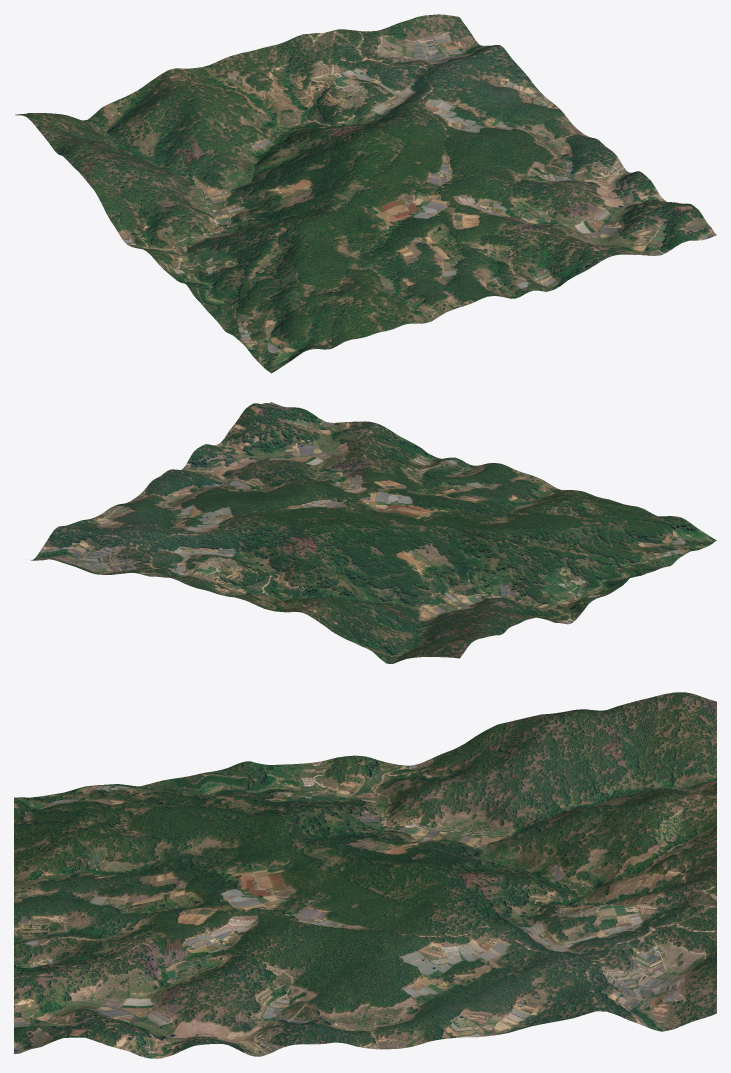
Rendered from terrain_real_T_E02_S01.glb.
3 renders of one model, top to bottom at view 1: azimuth 30°, elevation 25°; view 2: azimuth 150°, elevation 25°; view 3: azimuth 270°, elevation 25°, orthographic. The views are drawn at different scales.
Visible parts, largest first — view 1: TerrainReal_T_E02_S01; view 2: TerrainReal_T_E02_S01; view 3: TerrainReal_T_E02_S01.
Boxes of the visible parts, left/top/right/bottom form: TerrainReal_T_E02_S01: left=15, top=14, right=716, bottom=373; TerrainReal_T_E02_S01: left=30, top=402, right=716, bottom=663; TerrainReal_T_E02_S01: left=14, top=692, right=716, bottom=1058.
Bounding box in the file's own units: 2000 × 345 × 2000.
1 material, 1 textured.
